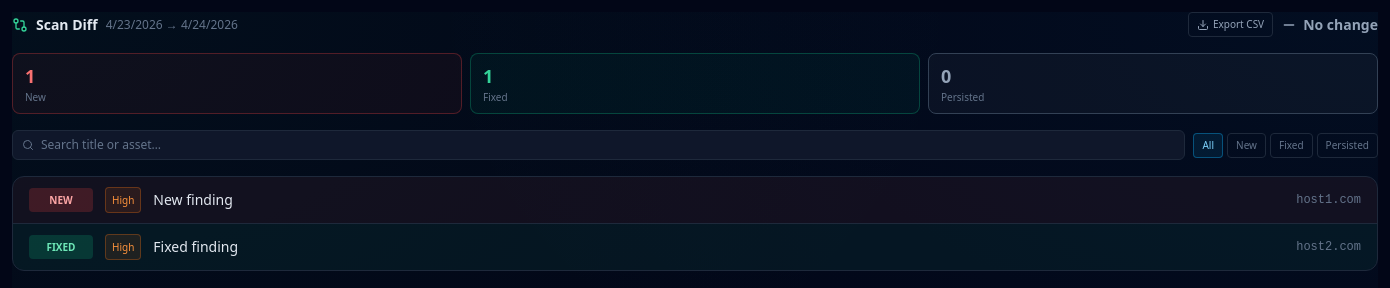
Test: ScanDiff › rendering › toggles stat-card filter off when clicking same status card twice
Click the button "1 New" at point(30, 76), box [12,53,462,114]
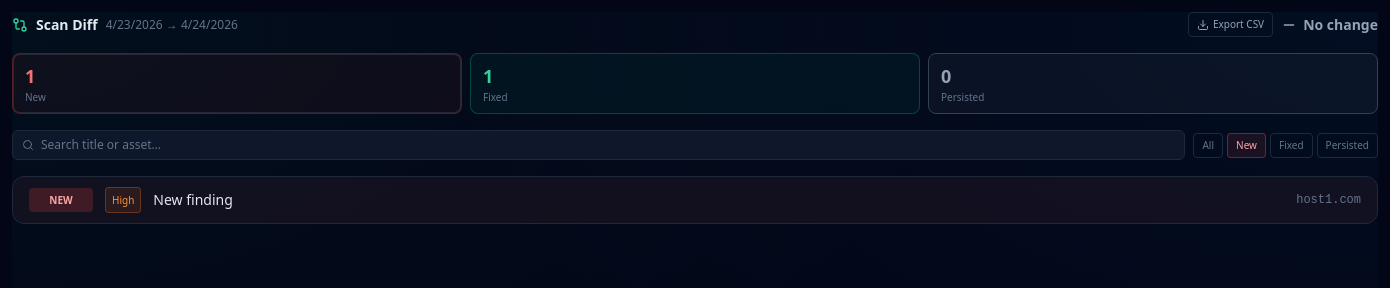
Now the text "Fixed finding" is gone
Click the button "1 New" at point(30, 76), box [12,53,462,114]
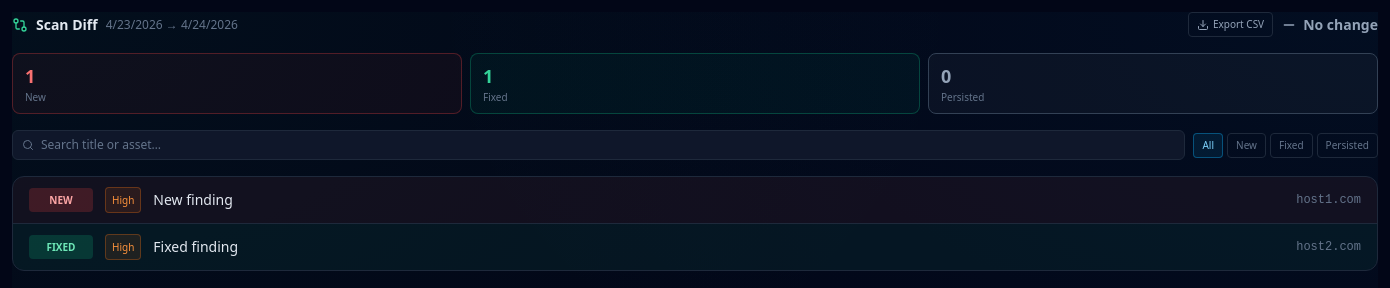
Now the text "Fixed finding" is shown, box [153,237,238,256]
